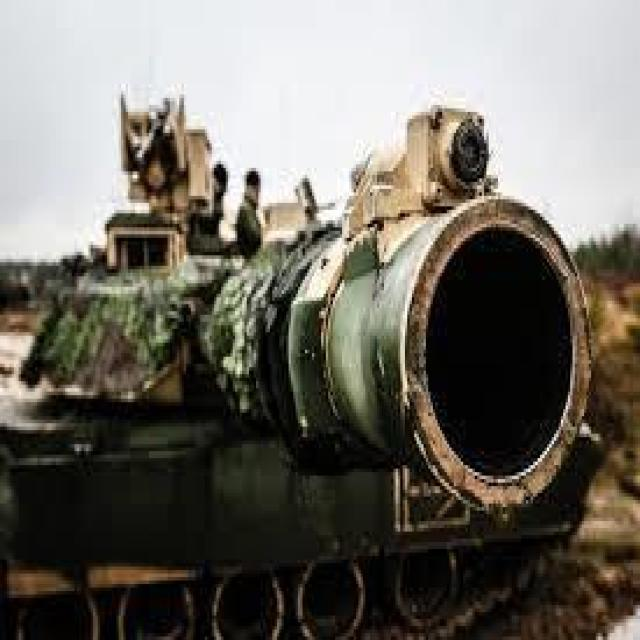Tanks: (51, 37, 563, 624)
